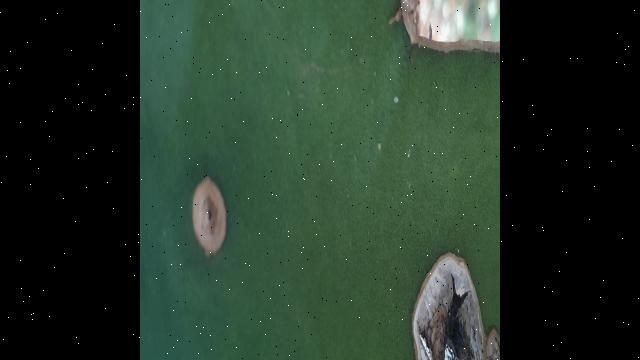stemcanker: (190, 173, 230, 260)
